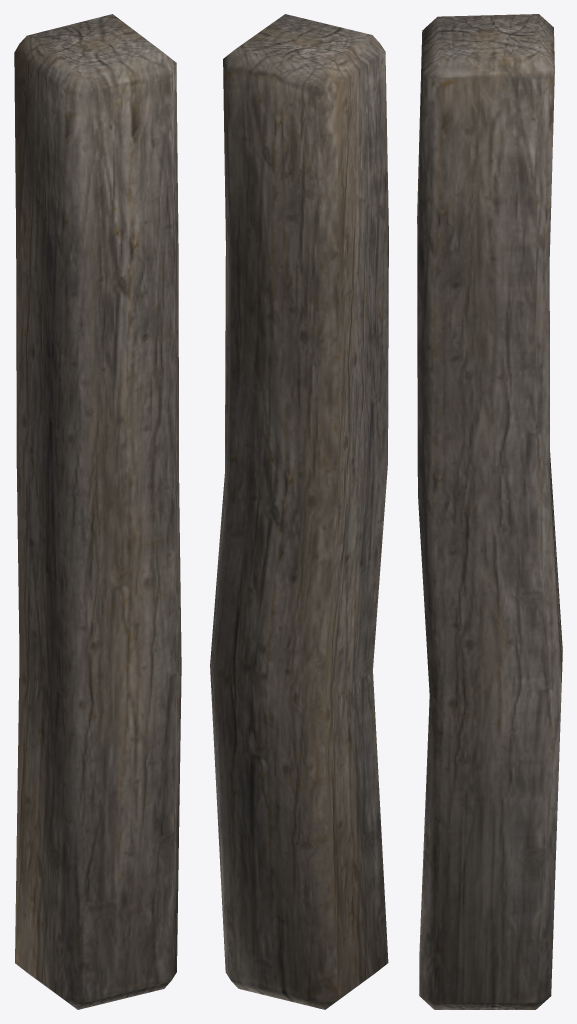
The model's file is beam medium.fbx.
3 renders of one model, left to right at view 1: azimuth 30°, elevation 25°; view 2: azimuth 150°, elevation 25°; view 3: azimuth 270°, elevation 25°, orthographic.
Visible parts, largest first — view 1: Cube.043; view 2: Cube.043; view 3: Cube.043.
Boxes of the visible parts, x1,y1,x2,y2 form: Cube.043: (14, 14, 181, 1009); Cube.043: (210, 14, 388, 1009); Cube.043: (417, 14, 562, 1009).
Bounding box in the file's own units: 34.5 × 252 × 34.88.
